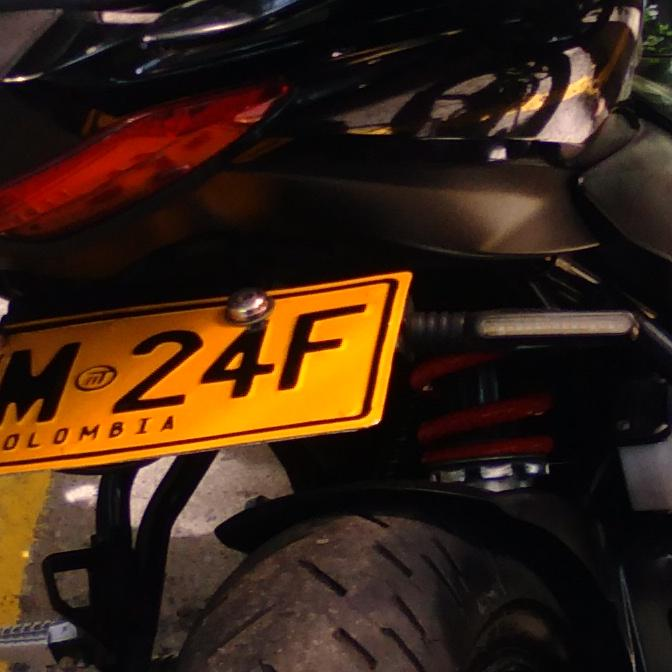plates: (0, 276, 410, 469)
